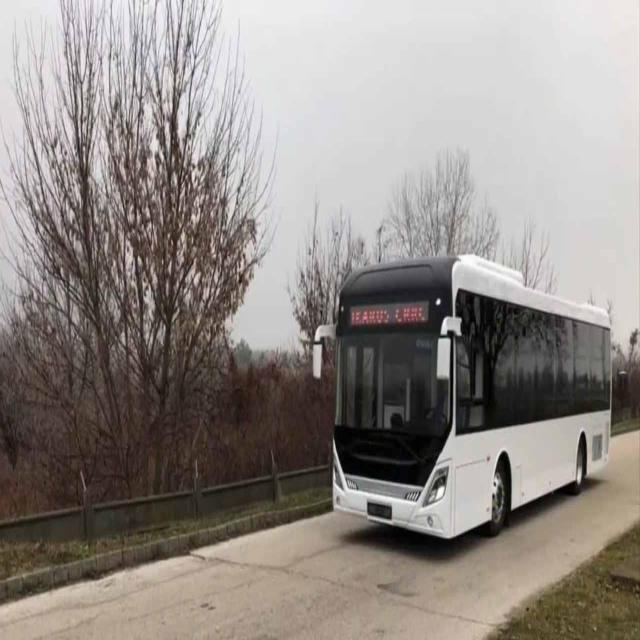bus: (285, 185, 640, 563)
